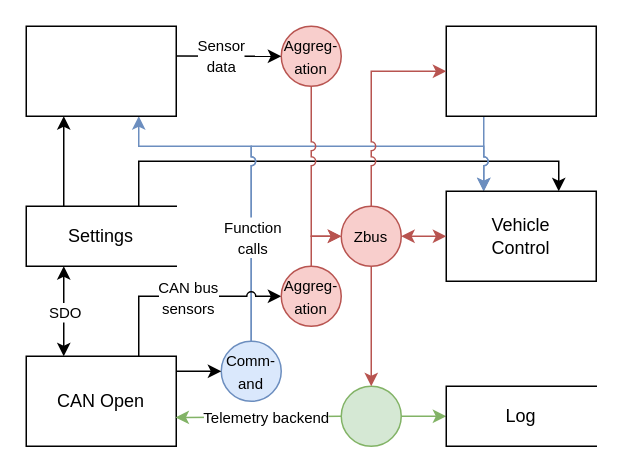
The diagram is 623 pixels wide and 473 high, and some of its shapes have lost their labels. Here are the shapes that lost their labels. From the top down, the box of each, then its label:
(25, 25, 176, 116): Sensors
(445, 25, 596, 116): Cockpit
(340, 385, 401, 446): Telem-etry
